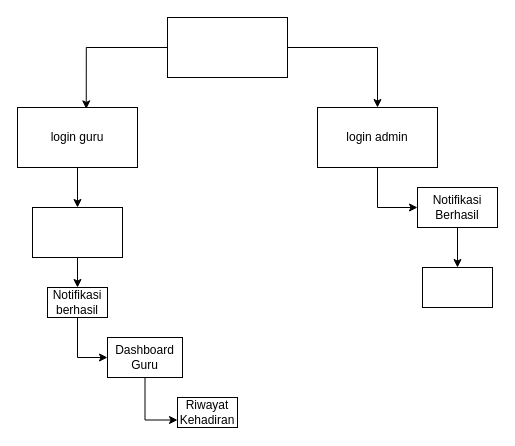
The diagram is 515 pixels wide and 446 high, and some of its shapes have lost their labels. The centre of each missing label's shape, as x and y in pixels:
Dashboard Admin: point 457,287
Landing Page: point 227,47
Presensi Guru: point 77,232
